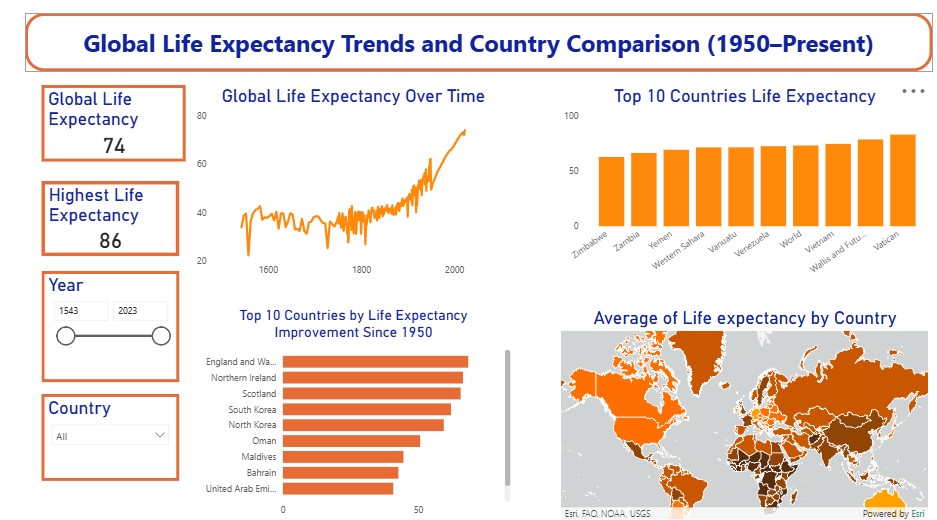

What the dashboard file says about the page in this screenshot:
{"tool":"powerbi","page":{"name":"Page 1","canvas":[1280,720],"ordinal":0},"visuals":[{"type":"lineChart","title":"Global Life Expectancy Over Time","fields":{"Category":["life-expectancy.Year"],"Y":["Avg(life-expectancy.Life expectancy)"]},"box":[267.3,129.6,433.4,267.3],"z":0},{"type":"columnChart","title":"Top 10 Countries Life Expectancy ","fields":{"Y":["life-expectancy.Latest Life Expectancy"],"Category":["life-expectancy.Entity"]},"box":[759.5,129.6,506.3,267.3],"z":1000},{"type":"clusteredBarChart","title":"Top 10 Countries by Life Expectancy Improvement Since 1950","fields":{"Category":["life-expectancy.Entity"],"Y":["life-expectancy.Improvement Since 1950"]},"box":[267.3,429.4,433.4,291.6],"z":2000},{"type":"esriVisual","title":"Average of Life expectancy by Country","fields":{"Location":["life-expectancy.Entity"],"Color":["Avg(life-expectancy.Life expectancy)"]},"box":[759.5,429.4,506.3,291.6],"z":3000},{"type":"textbox","box":[40.5,32.4,1225.3,79],"z":4000},{"type":"card","title":"Global Life Expectancy","fields":{"Values":["life-expectancy.Global Life Expectancy"]},"box":[62.8,129.6,194.4,103.3],"z":5000},{"type":"slicer","title":"Year","fields":{"Values":["life-expectancy.Year"]},"box":[62.8,380.8,186.3,149.9],"z":6000},{"type":"slicer","title":"Country","fields":{"Values":["life-expectancy.Entity"]},"box":[62.8,546.8,186.3,117.5],"z":7000},{"type":"card","title":"Highest Life Expectancy","fields":{"Values":["life-expectancy.Highest Life Expectancy"]},"box":[62.8,259.2,186.3,101.3],"z":8000}]}

Visuals, with their boxes in screenshot pixels (x1, y1, x2, y2), scaled from the page's 1280x720 canvas onto the 937x520 screenshot:
"Global Life Expectancy Over Time" lineChart: [196,94,513,287]
"Top 10 Countries Life Expectancy " columnChart: [556,94,927,287]
"Top 10 Countries by Life Expectancy Improvement Since 1950" clusteredBarChart: [196,310,513,519]
"Average of Life expectancy by Country" esriVisual: [556,310,927,519]
textbox: [30,23,927,80]
"Global Life Expectancy" card: [46,94,188,168]
"Year" slicer: [46,275,182,383]
"Country" slicer: [46,395,182,480]
"Highest Life Expectancy" card: [46,187,182,260]
